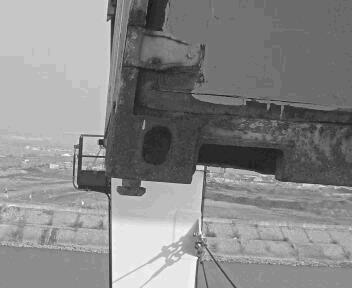twist_lock_1: (111, 174, 155, 204)
